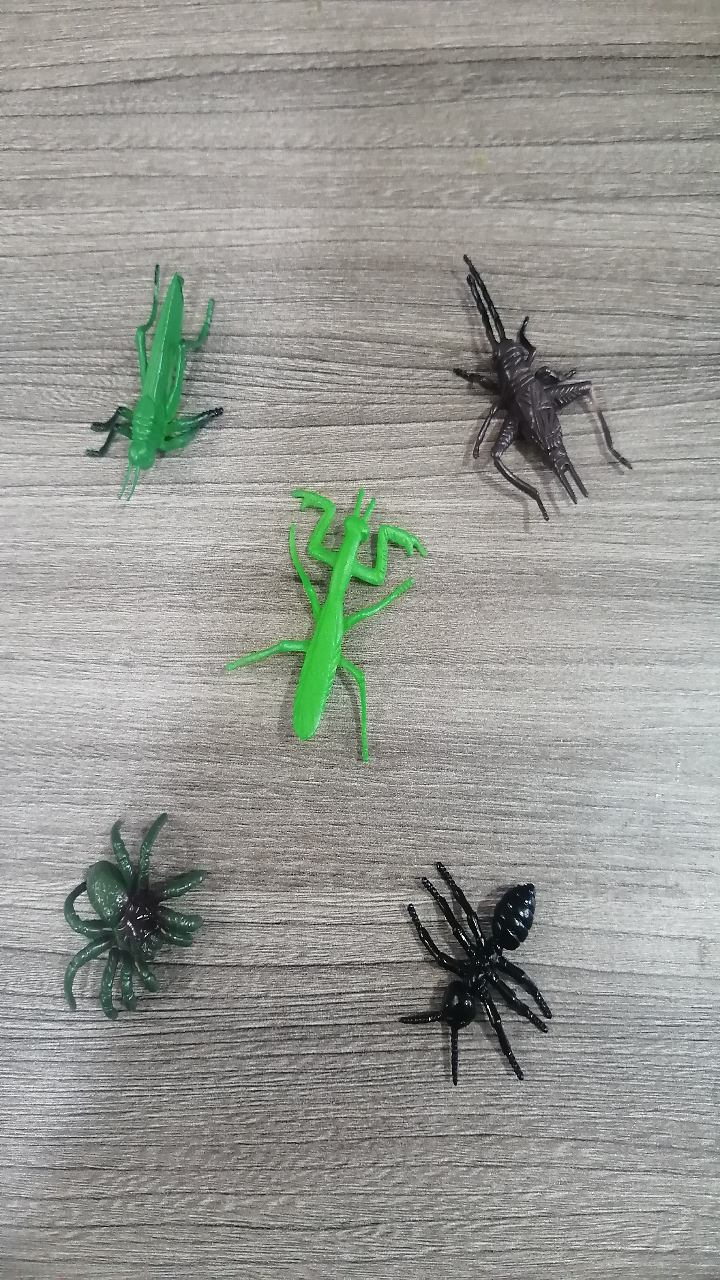intruso: (428, 225, 649, 535), (214, 475, 429, 783), (372, 834, 601, 1112), (46, 779, 240, 1032), (68, 222, 238, 494)
